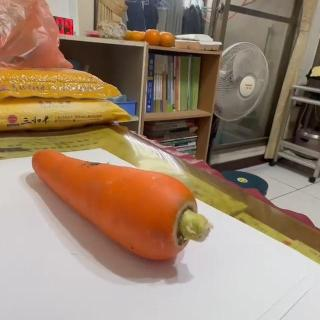carrot: (31, 148, 213, 262)
